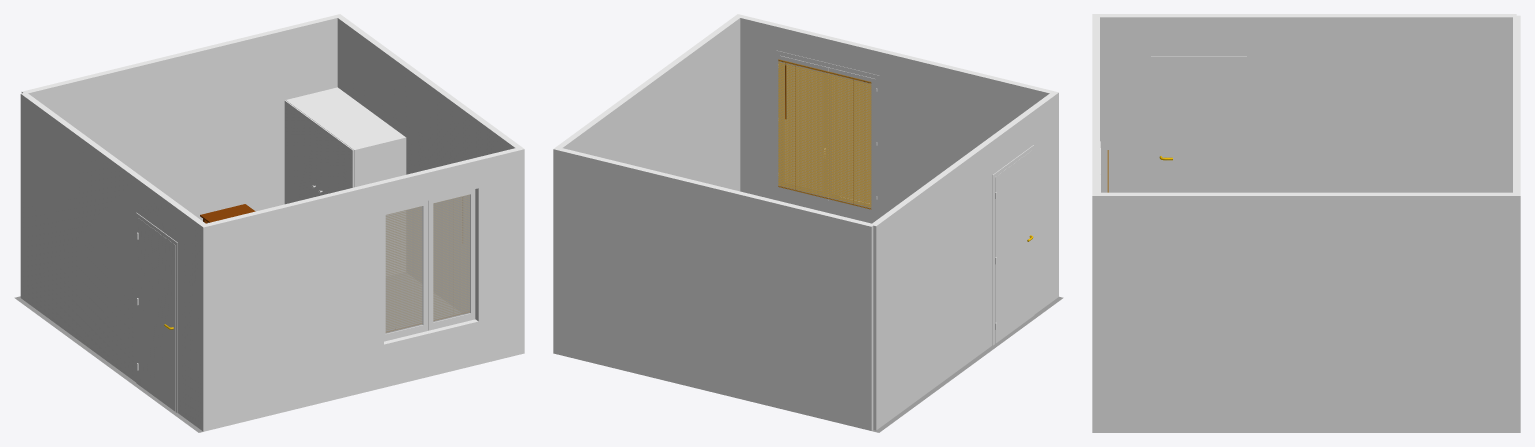
File: Room.obj
3 renders of one model, left to right at view 1: azimuth 30°, elevation 25°; view 2: azimuth 150°, elevation 25°; view 3: azimuth 270°, elevation 25°, orthographic. The views are drawn at different scales.
Parts seen in each view (by area): view 1: wall_3_16, wall_1_5, wall_4_22, wall_2_11, sweethome3d_opening_on_hinge_1_door_56, Corps_39, sweethome3d_window_pane_on_hinge_2_68, sweethome3d_window_pane_on_hinge_1_63, Blades_76, sweethome3d_opening_on_hinge_1_door_41, frame_57, sweethome3d_opening_on_hinge_1_62 (+13 smaller); view 2: wall_1_4, wall_4_22, wall_3_17, wall_2_11, Blades_76, sweethome3d_opening_on_hinge_1_door_56, sweethome3d_window_pane_on_hinge_2_68, sweethome3d_window_pane_on_hinge_1_63, frame_57, sweethome3d_opening_on_hinge_2_67, sweethome3d_opening_on_hinge_1_62, frame_48 (+9 smaller); view 3: wall_2_10, wall_4_23, sweethome3d_opening_on_hinge_1_door_56, frame_48, wall_2_13, wall_4_25, wall_3_18, wall_1_6, wall_2_12, wall_4_24, wall_1_7, wall_3_19.
Boxes of the visible parts, box(x1,y1,x2,y2) form: wall_3_16: box(203, 149, 524, 431); wall_1_5: box(28, 18, 337, 222); wall_4_22: box(20, 94, 203, 431); wall_2_11: box(337, 18, 514, 313); sweethome3d_opening_on_hinge_1_door_56: box(138, 218, 175, 411); Corps_39: box(286, 87, 406, 275); sweethome3d_window_pane_on_hinge_2_68: box(385, 206, 422, 333); sweethome3d_window_pane_on_hinge_1_63: box(433, 194, 470, 321); Blades_76: box(386, 195, 469, 329); sweethome3d_opening_on_hinge_1_door_41: box(284, 100, 319, 204); frame_57: box(379, 183, 482, 350); sweethome3d_opening_on_hinge_1_62: box(428, 189, 475, 330); wall_1_4: box(553, 149, 873, 430); wall_4_22: box(873, 93, 1058, 430); wall_3_17: box(740, 18, 1049, 223); wall_2_11: box(563, 18, 740, 191); Blades_76: box(778, 62, 871, 207); sweethome3d_opening_on_hinge_1_door_56: box(995, 150, 1032, 343); sweethome3d_window_pane_on_hinge_2_68: box(833, 76, 869, 202); sweethome3d_window_pane_on_hinge_1_63: box(786, 65, 821, 190); frame_57: box(776, 50, 879, 217); sweethome3d_opening_on_hinge_2_67: box(829, 67, 875, 212); sweethome3d_opening_on_hinge_1_62: box(779, 55, 828, 200); frame_48: box(992, 145, 1034, 345); wall_2_10: box(1092, 196, 1520, 432); wall_4_23: box(1100, 17, 1512, 192); sweethome3d_opening_on_hinge_1_door_56: box(1157, 62, 1240, 192); frame_48: box(1151, 56, 1246, 192); wall_2_13: box(1096, 192, 1516, 194); wall_4_25: box(1097, 15, 1516, 17); wall_3_18: box(1092, 14, 1096, 195); wall_1_6: box(1516, 15, 1520, 195); wall_2_12: box(1093, 194, 1519, 195); wall_4_24: box(1093, 14, 1516, 15); wall_1_7: box(1513, 15, 1516, 193); wall_3_19: box(1096, 16, 1099, 193).
Bounding box in the file's own units: 418 × 250 × 410.
